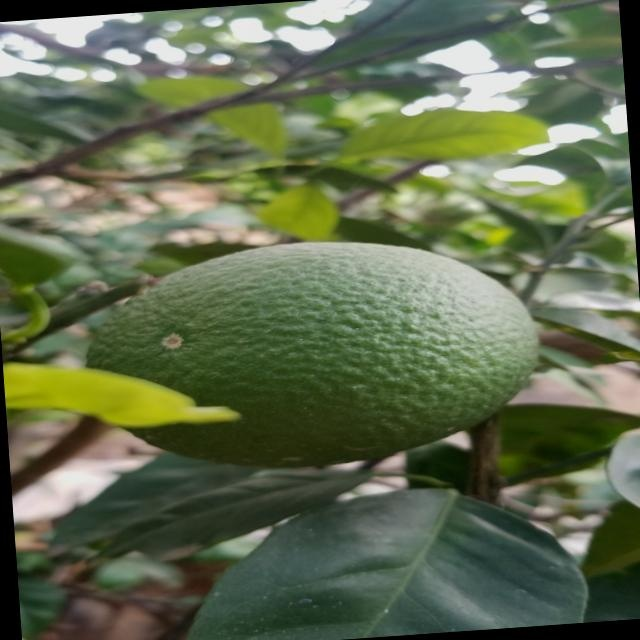agrume: (64, 218, 556, 494)
